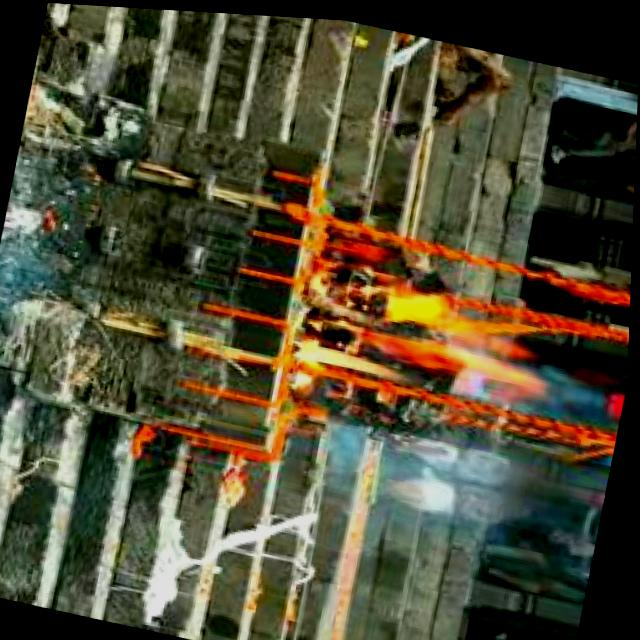Fire: (291, 259, 553, 432)
